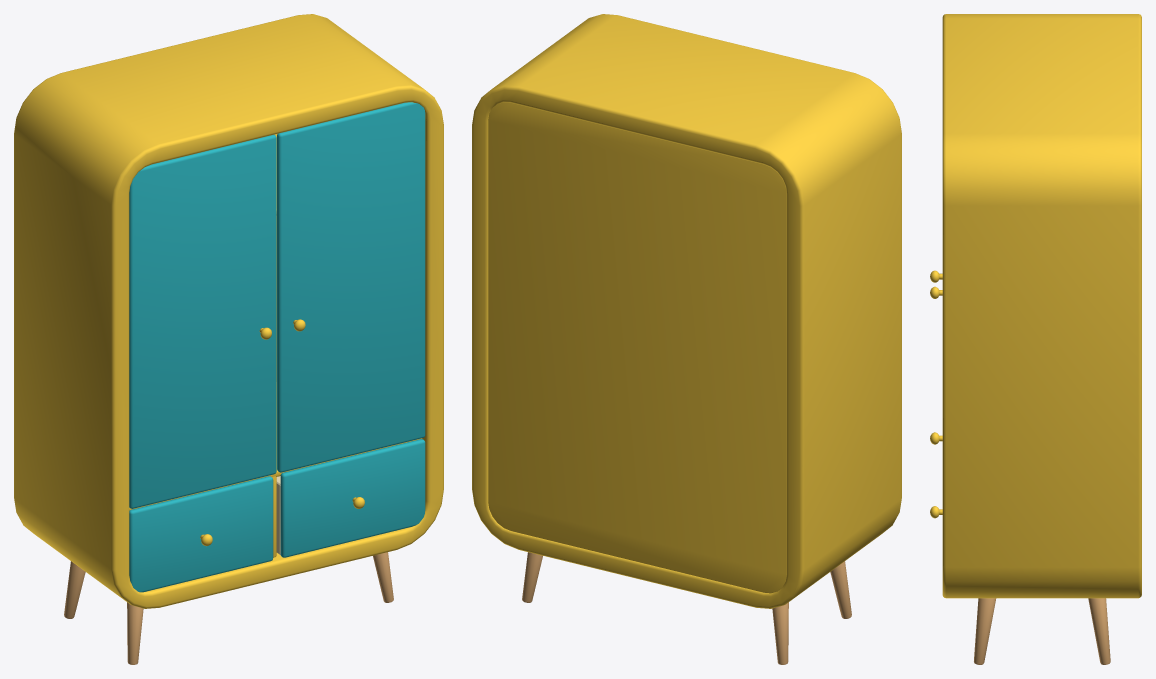
File: guarda_roupa_retro_amarelo.glb
The picture shows the model from 3 angles, left to right: view 1: azimuth 30°, elevation 25°; view 2: azimuth 150°, elevation 25°; view 3: azimuth 270°, elevation 25°; orthographic projection.
Visible parts, largest first — view 1: guarda_roupa_retro_amarelo, porta_2, porta_1, gaveta_2, gaveta_1; view 2: guarda_roupa_retro_amarelo; view 3: guarda_roupa_retro_amarelo.
Boxes of the visible parts, left/top/right/bottom form: guarda_roupa_retro_amarelo: left=14, top=14, right=443, bottom=664; porta_2: left=277, top=102, right=425, bottom=472; porta_1: left=129, top=134, right=276, bottom=508; gaveta_2: left=276, top=439, right=425, bottom=557; gaveta_1: left=129, top=476, right=273, bottom=592; guarda_roupa_retro_amarelo: left=472, top=14, right=901, bottom=664; guarda_roupa_retro_amarelo: left=942, top=14, right=1141, bottom=664.
Bounding box in the file's own units: 1.05 × 1.6 × 0.5846.
Materials: 1 (1 with a texture image).
